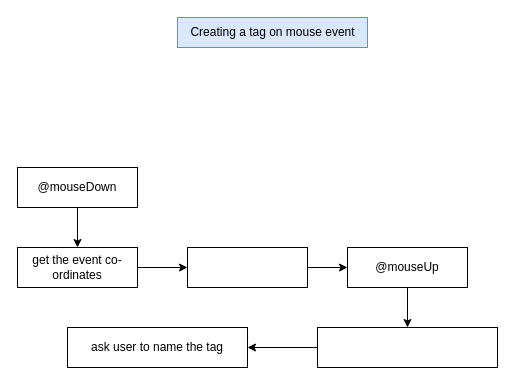
This 515x385 diagram has some shape labels left out. Here are the shapes that lost their labels. From the top down, the centre of each, then its label:
At [247,267]: "draw a tag".
At [407,347]: "Save the x,y and width, height of the tag".
